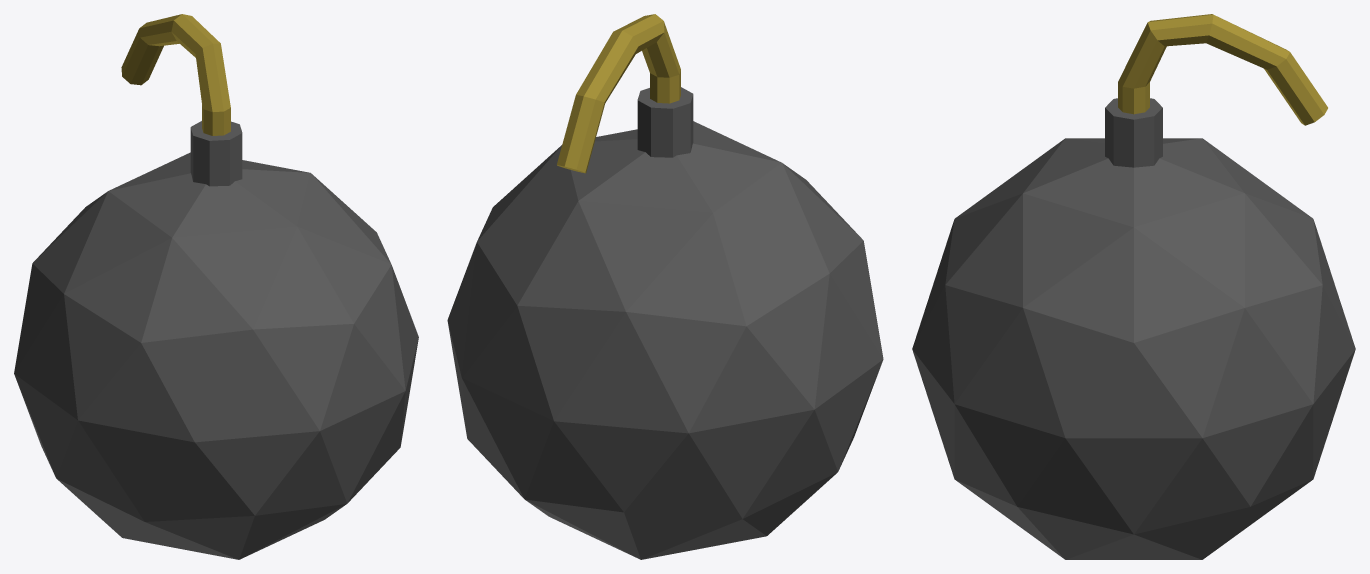
Rendered from Bomb animation.fbx.
3 renders of one model, left to right at view 1: azimuth 30°, elevation 25°; view 2: azimuth 150°, elevation 25°; view 3: azimuth 270°, elevation 25°, orthographic. The views are drawn at different scales.
Visible parts, largest first — view 1: Icosphere, Cylinder.001, Cylinder; view 2: Icosphere, Cylinder.001, Cylinder; view 3: Icosphere, Cylinder.001, Cylinder.
Boxes of the visible parts, x1,y1,x2,y2 form: Icosphere: (14,152,418,559); Cylinder.001: (121,14,230,135); Cylinder: (190,121,242,186); Icosphere: (447,121,883,559); Cylinder.001: (557,14,680,173); Cylinder: (637,87,693,157); Icosphere: (912,138,1355,559); Cylinder.001: (1118,14,1327,125); Cylinder: (1105,98,1162,167).
Bounding box in the file's own units: 306 × 430 × 322.
